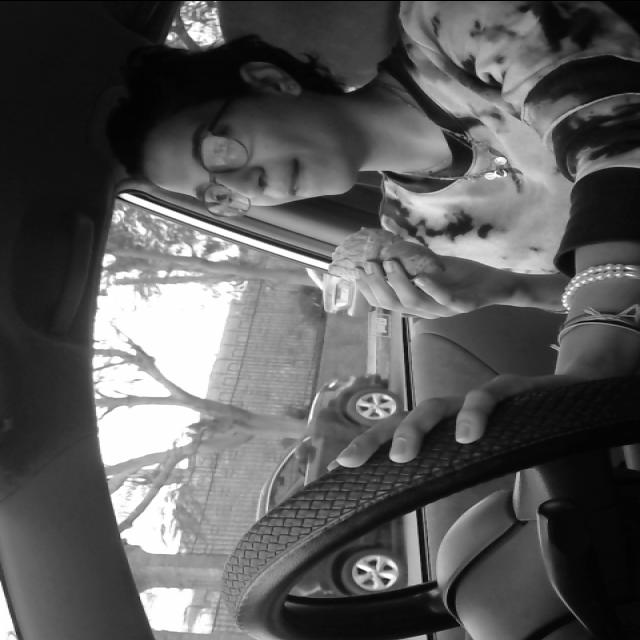eating: (305, 208, 437, 282)
